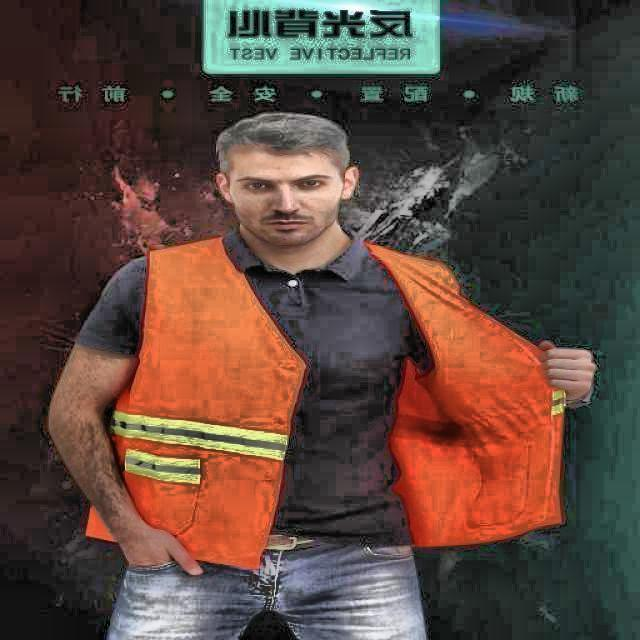safety_jacket: (132, 249, 291, 549)
